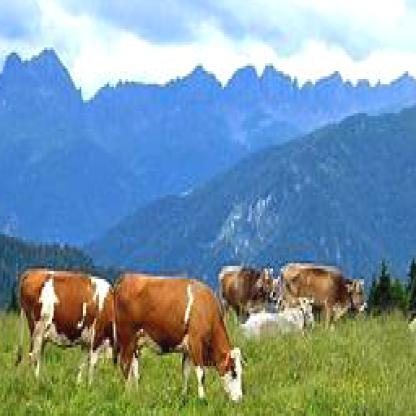cow: (112, 271, 247, 403), (15, 269, 113, 379), (281, 263, 369, 324), (218, 266, 280, 313)
